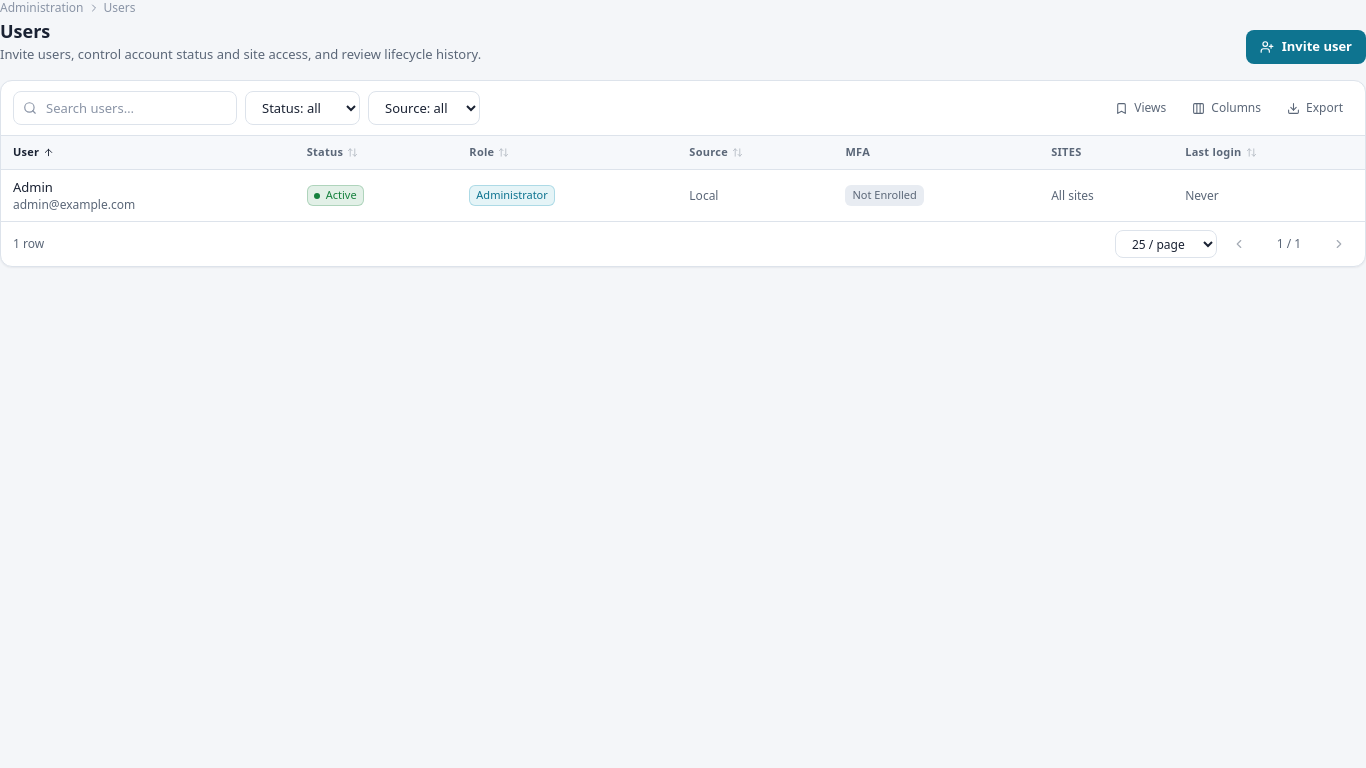
Test: opens a user detail with lifecycle, login, access, and MFA information
The image size is (1366, 768).
Step 1. Click the text "admin@example.com" → (74, 204), box [13,196,135,213]
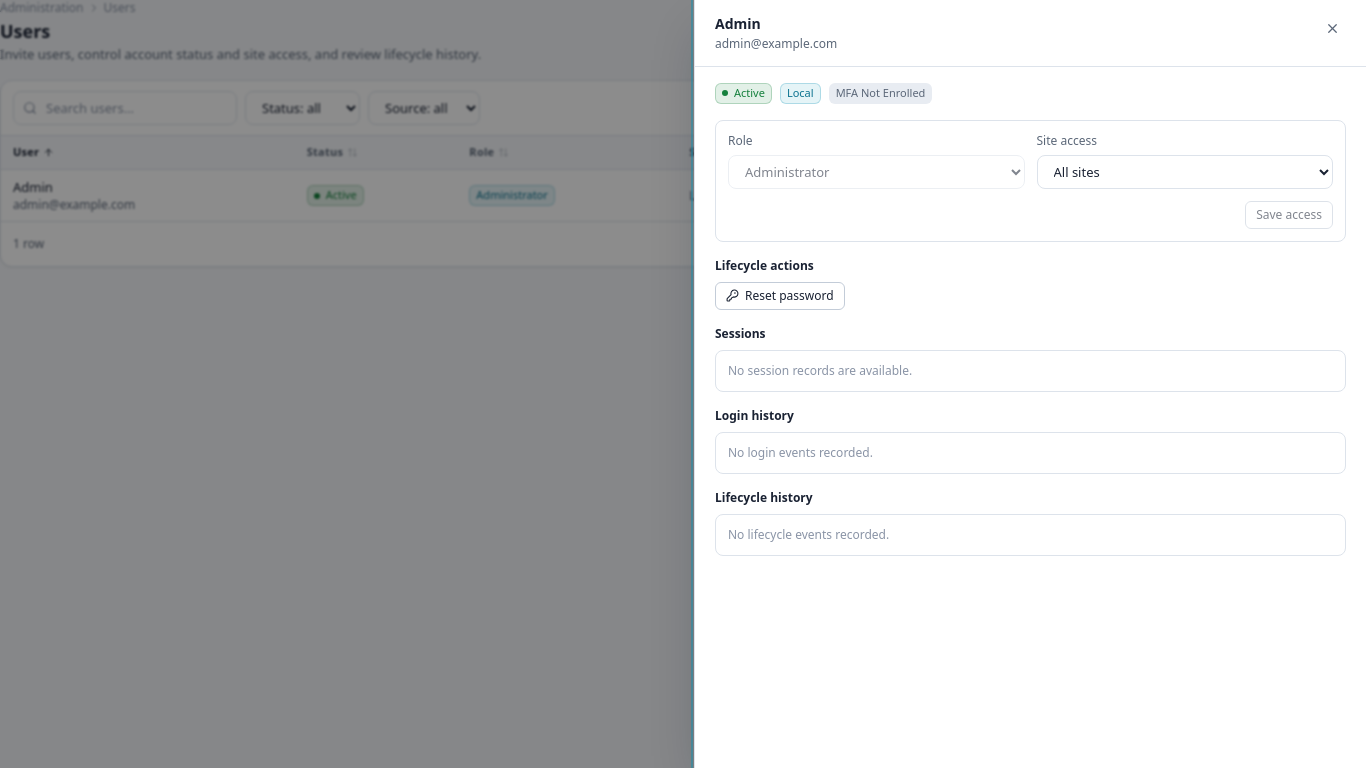
Now the heading "Lifecycle actions" is shown, box [715,256,814,274]
Now the heading "Login history" is shown, box [715,406,794,424]
Now the heading "Sessions" is shown, box [715,324,766,342]
